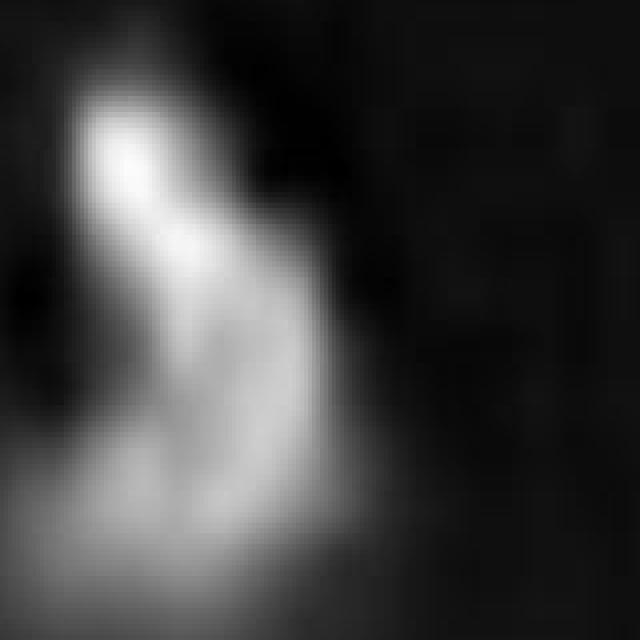person: (1, 33, 381, 640)
